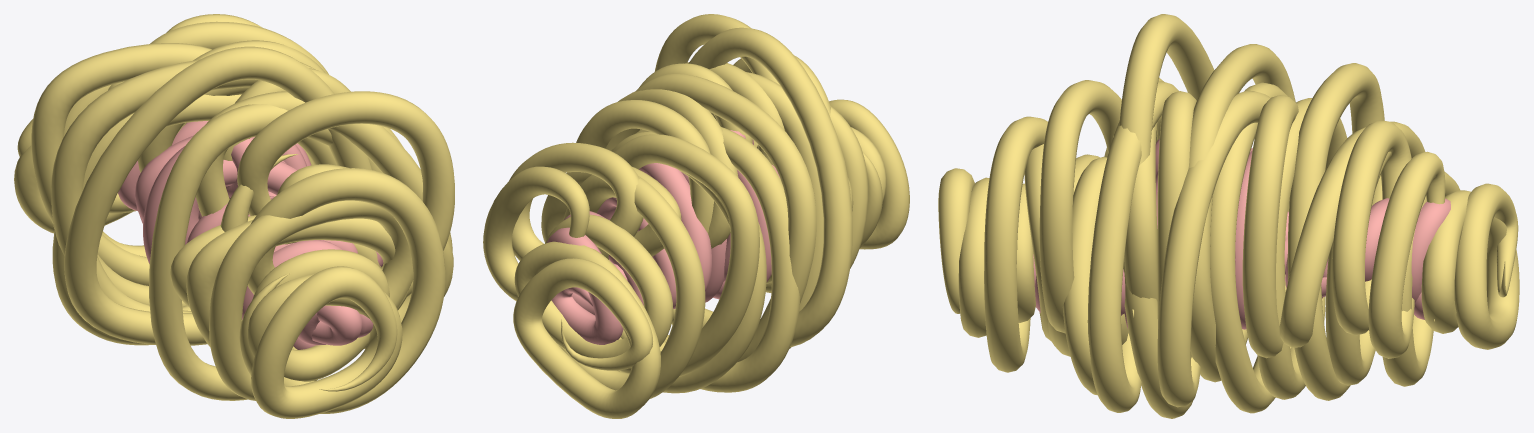
The picture shows the model from 3 angles, left to right: view 1: azimuth 30°, elevation 25°; view 2: azimuth 150°, elevation 25°; view 3: azimuth 270°, elevation 25°; orthographic projection. The views are drawn at different scales.
Visible parts, largest first — view 1: flight2; view 2: flight2; view 3: flight2.
Boxes of the visible parts, left/top/right/bottom form: flight2: left=14, top=14, right=454, bottom=418; flight2: left=483, top=14, right=909, bottom=418; flight2: left=938, top=14, right=1519, bottom=418.
Size of the model in its own units: 15.4 by 16.11 by 22.81.
